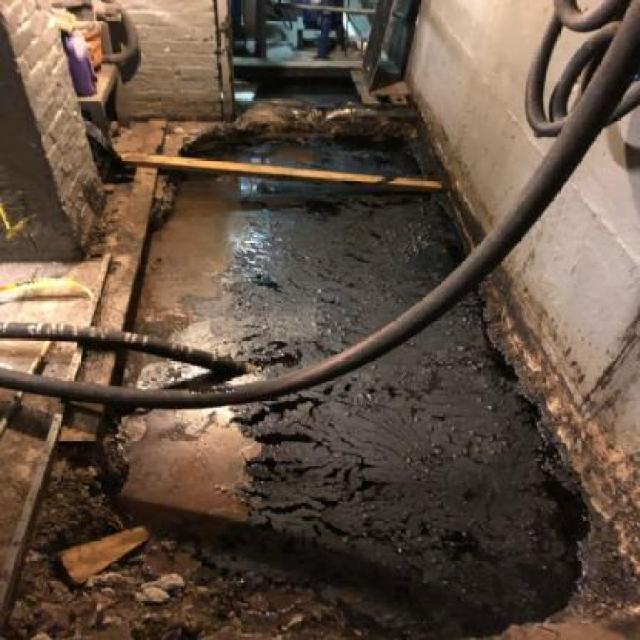spillage: (190, 286, 587, 640), (194, 173, 467, 374), (258, 134, 442, 178)
